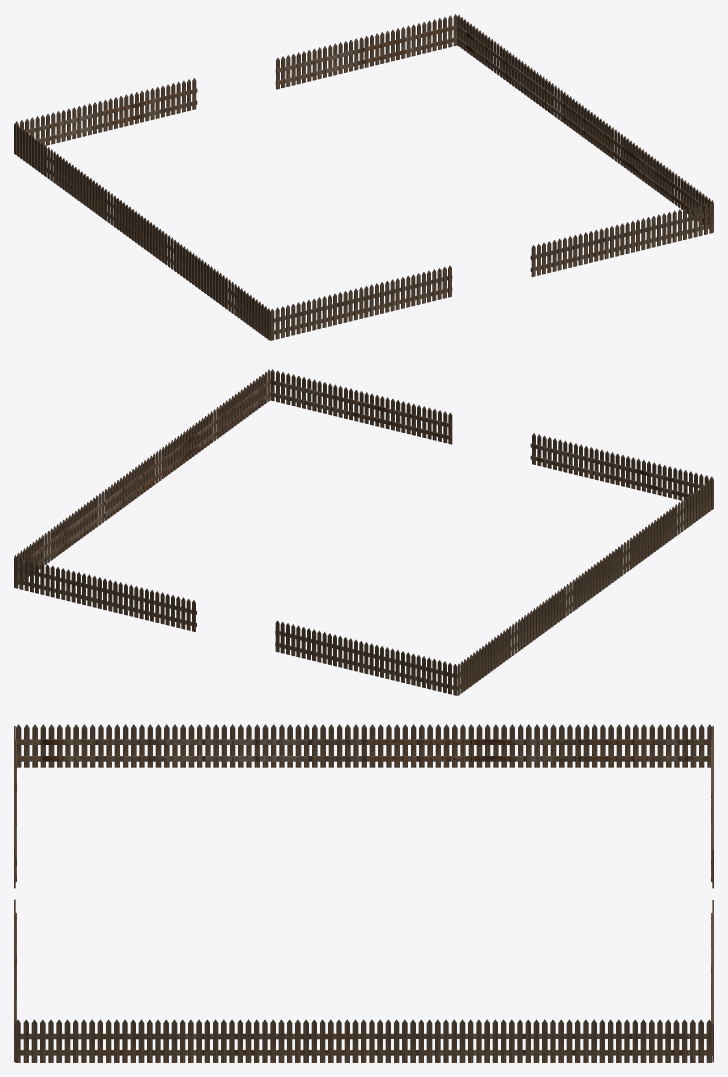
File: Fence.fbx
3 views of the same model, one above another, from view 1: azimuth 30°, elevation 25°; view 2: azimuth 150°, elevation 25°; view 3: azimuth 270°, elevation 25° (orthographic). The views are drawn at different scales.
Visible parts, largest first — view 1: Fence; view 2: Fence; view 3: Fence.
Boxes of the visible parts, x1,y1,x2,y2 form: Fence: (14, 14, 713, 340); Fence: (14, 369, 713, 695); Fence: (14, 724, 713, 1062).
Size of the model in its own units: 2596 by 176 by 2595.
